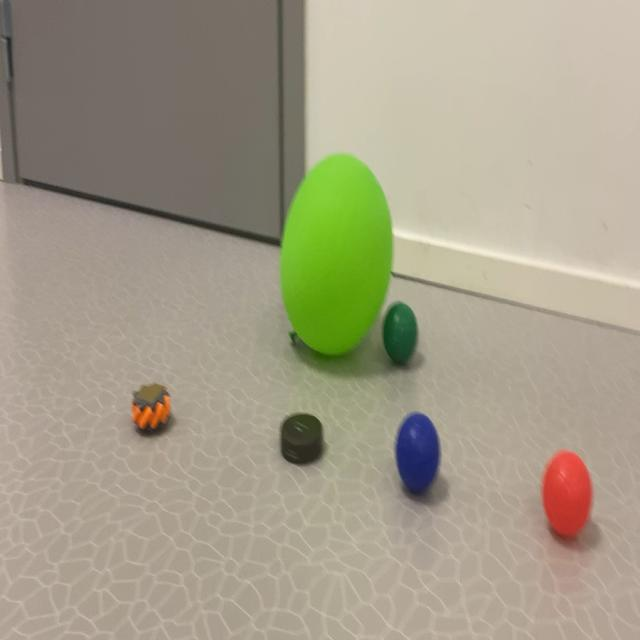7: (516, 409, 608, 570)
green ball: (387, 391, 453, 536)
red ball: (376, 296, 448, 385)
